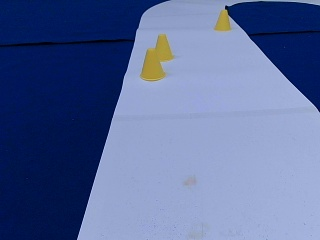cone: (140, 48, 165, 80), (154, 35, 173, 61), (214, 10, 230, 30)
